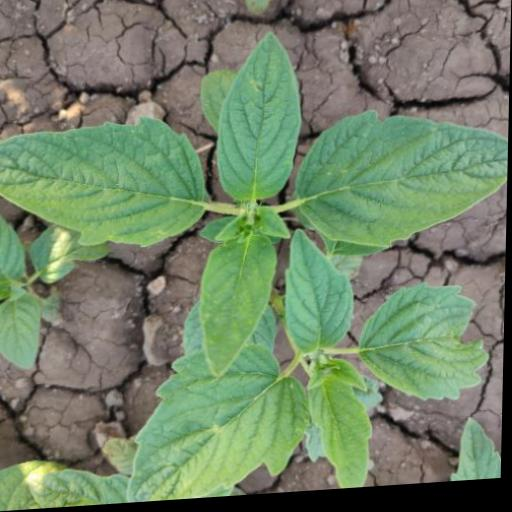crop: (0, 21, 511, 384), (134, 230, 496, 504)
